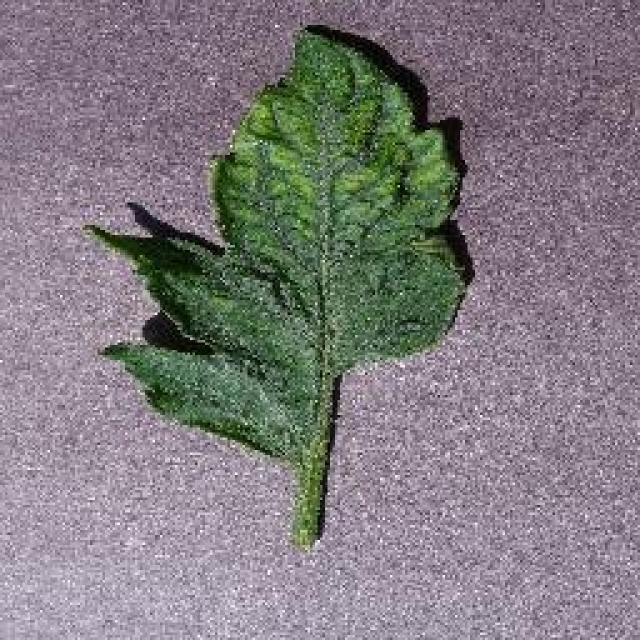Tomato spider mites leaf: (85, 29, 475, 469)
